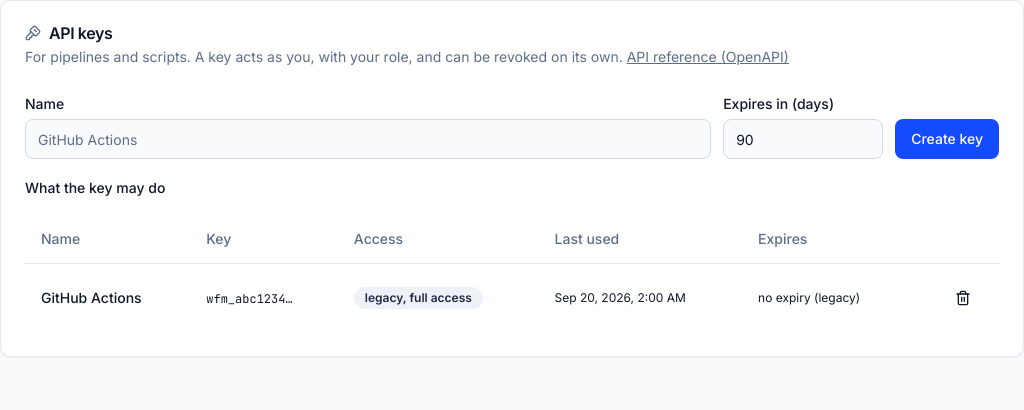
ApiKeysCard › refuses a key with no lifetime before asking the server
Expected: the text "GitHub Actions" is shown, [25, 263, 190, 332]
Step 1. Type "x" into the field labelled "Name" → coordinates (368, 139), box [25, 119, 711, 159]
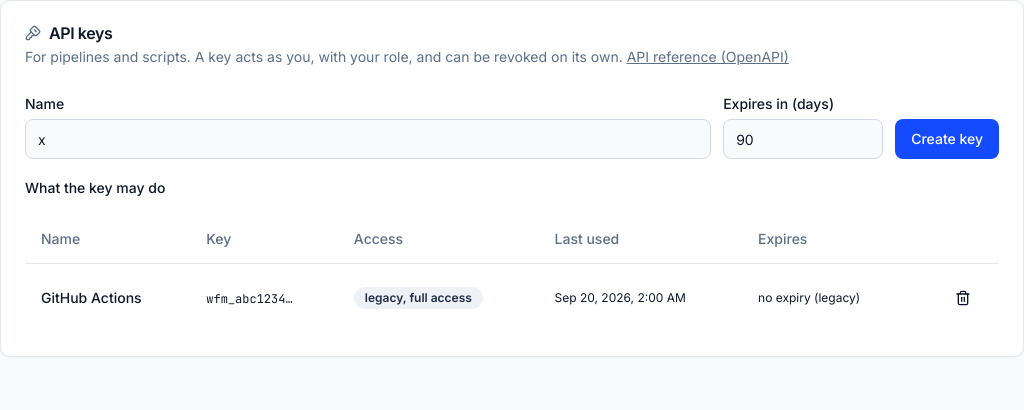
Step 2. Clear the field labelled "Expires in (days)" → coordinates (803, 139), box [723, 119, 883, 159]
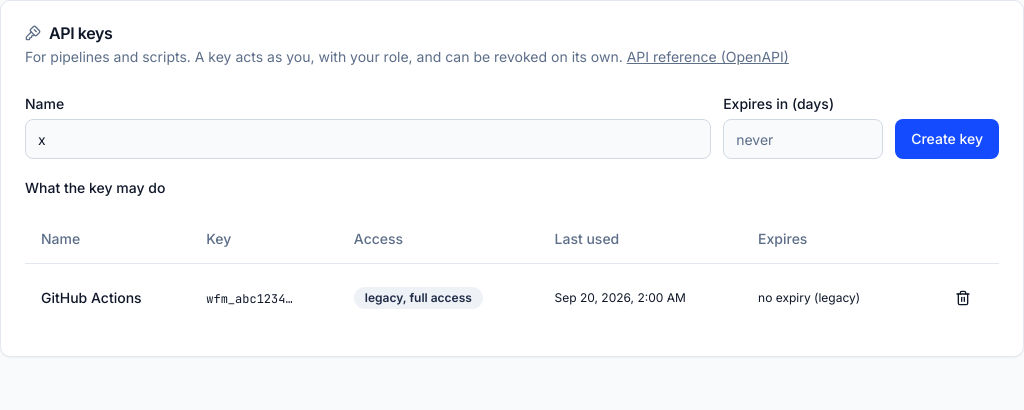
Step 3. Click the button "Create key" → coordinates (947, 139), box [895, 119, 999, 159]
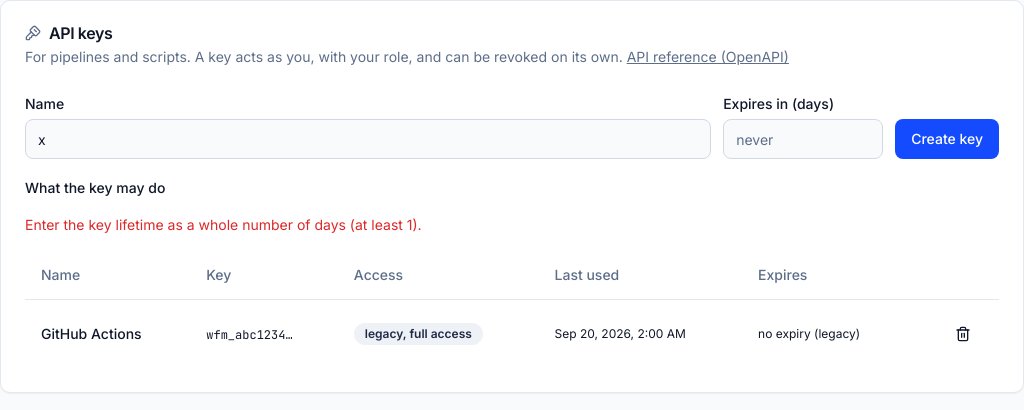
Result: the text "whole number of days" is shown at [25, 216, 422, 233]
